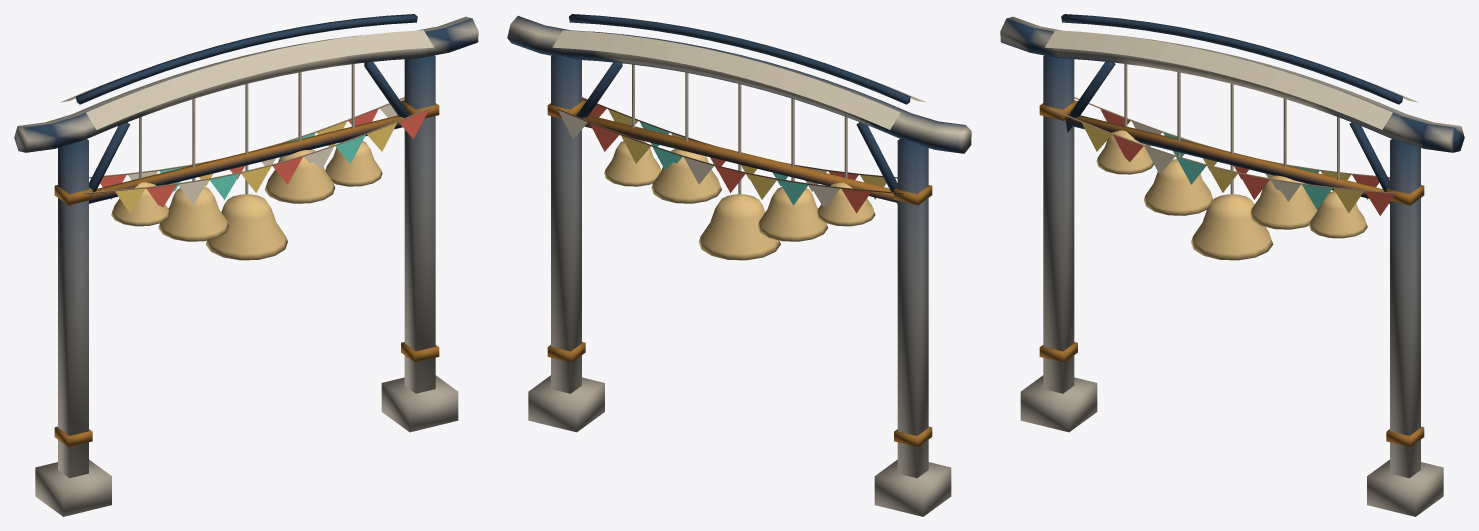
The model's file is bell-frame.glb.
The picture shows the model from 3 angles, left to right: view 1: azimuth 30°, elevation 25°; view 2: azimuth 150°, elevation 25°; view 3: azimuth 330°, elevation 25°; orthographic projection.
Parts seen in each view (by area): view 1: Frame.001, Pennants, Bell2, Bell1, Bell3, Bell4, Bell0; view 2: Frame.001, Pennants, Bell2, Bell1, Bell3, Bell4, Bell0; view 3: Frame.001, Pennants, Bell2, Bell1, Bell3, Bell4, Bell0.
Boxes of the visible parts, x1,y1,x2,y2 form: Frame.001: [14, 14, 478, 516]; Pennants: [82, 97, 429, 213]; Bell2: [205, 194, 287, 260]; Bell1: [158, 186, 228, 241]; Bell3: [264, 149, 335, 203]; Bell4: [325, 141, 382, 186]; Bell0: [111, 182, 169, 226]; Frame.001: [507, 14, 971, 516]; Pennants: [557, 97, 903, 213]; Bell2: [698, 194, 780, 260]; Bell1: [757, 187, 827, 241]; Bell3: [651, 149, 721, 203]; Bell4: [604, 139, 661, 186]; Bell0: [816, 182, 875, 226]; Frame.001: [1000, 14, 1464, 516]; Pennants: [1049, 97, 1396, 215]; Bell2: [1191, 194, 1273, 260]; Bell1: [1143, 159, 1213, 215]; Bell3: [1250, 175, 1317, 229]; Bell4: [1309, 191, 1367, 238]; Bell0: [1096, 130, 1153, 174].
Bounding box in the file's own units: 3.92 × 3.46 × 0.6045.
